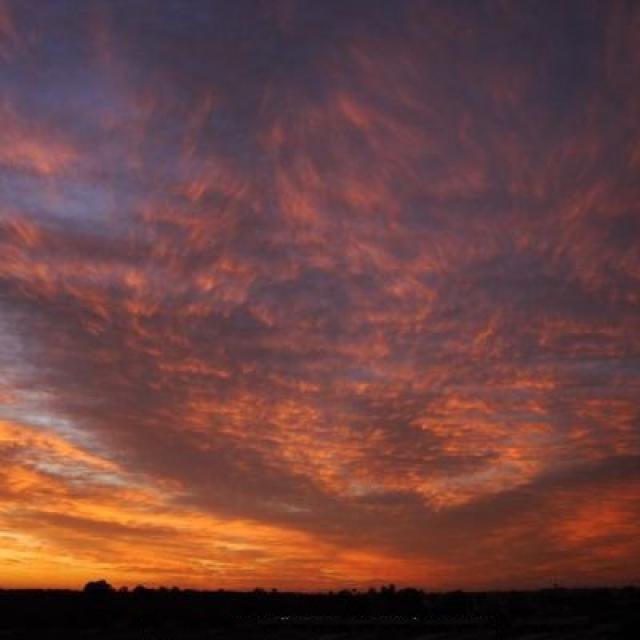As: (1, 66, 640, 498)
